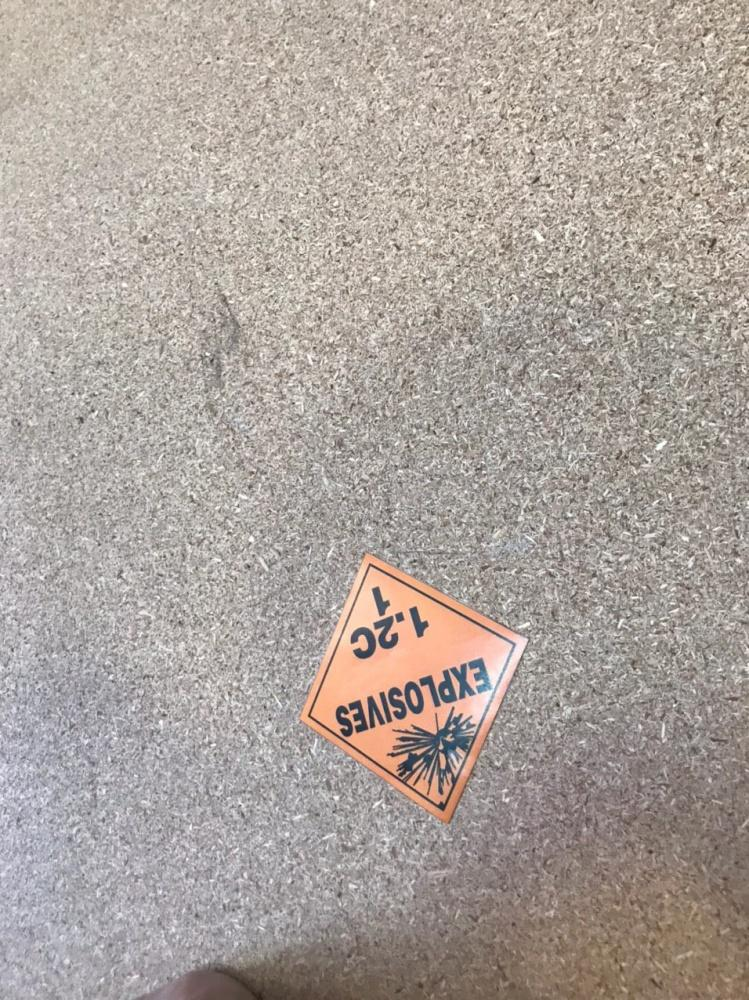explosive: (298, 551, 531, 822)
